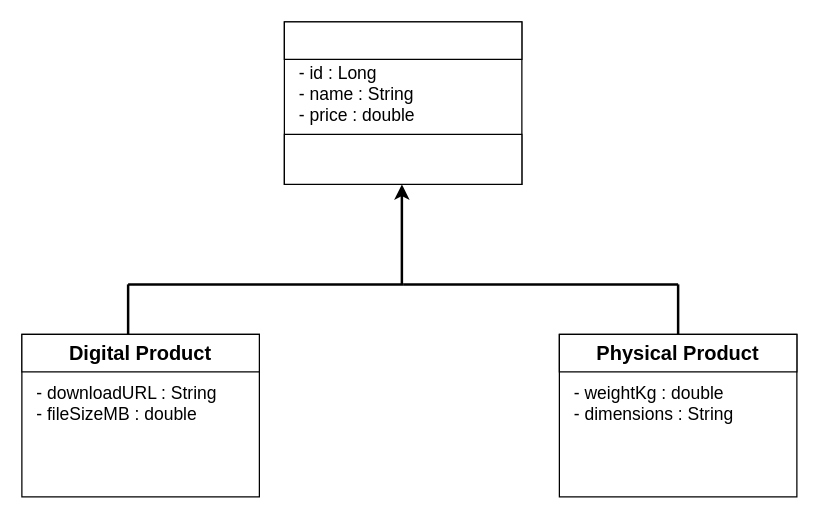
Image size: 819x519. Some labels were removed from this diagram. Each missing label, with the box of its shape:
+ getName() : String + getPrice() : double: (283, 133, 522, 184)
Product: (283, 21, 522, 59)
